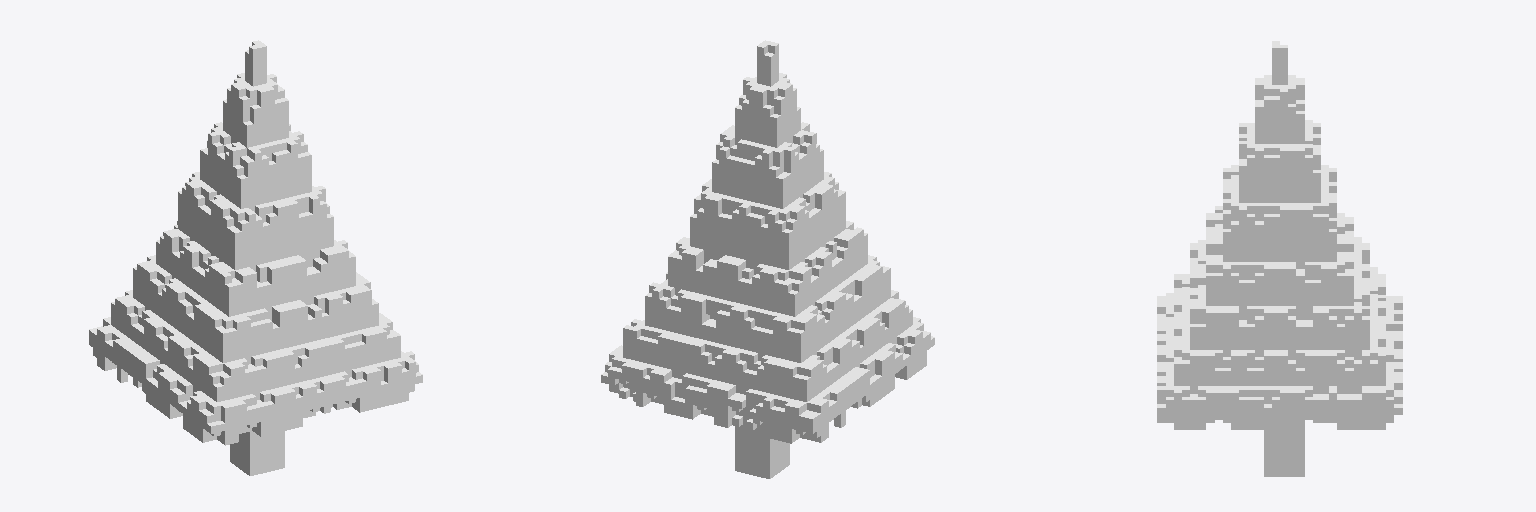
File: Tree8.obj
The picture shows the model from 3 angles: view 1: azimuth 30°, elevation 25°; view 2: azimuth 150°, elevation 25°; view 3: azimuth 270°, elevation 25°; orthographic projection.
Parts seen in each view (by area): view 1: object 1; view 2: object 1; view 3: object 1.
Boxes of the visible parts, x1,y1,x2,y2 form: object 1: [89, 40, 422, 475]; object 1: [601, 40, 934, 478]; object 1: [1157, 41, 1402, 476].
Bounding box in the file's own units: 3 × 5.7 × 3.